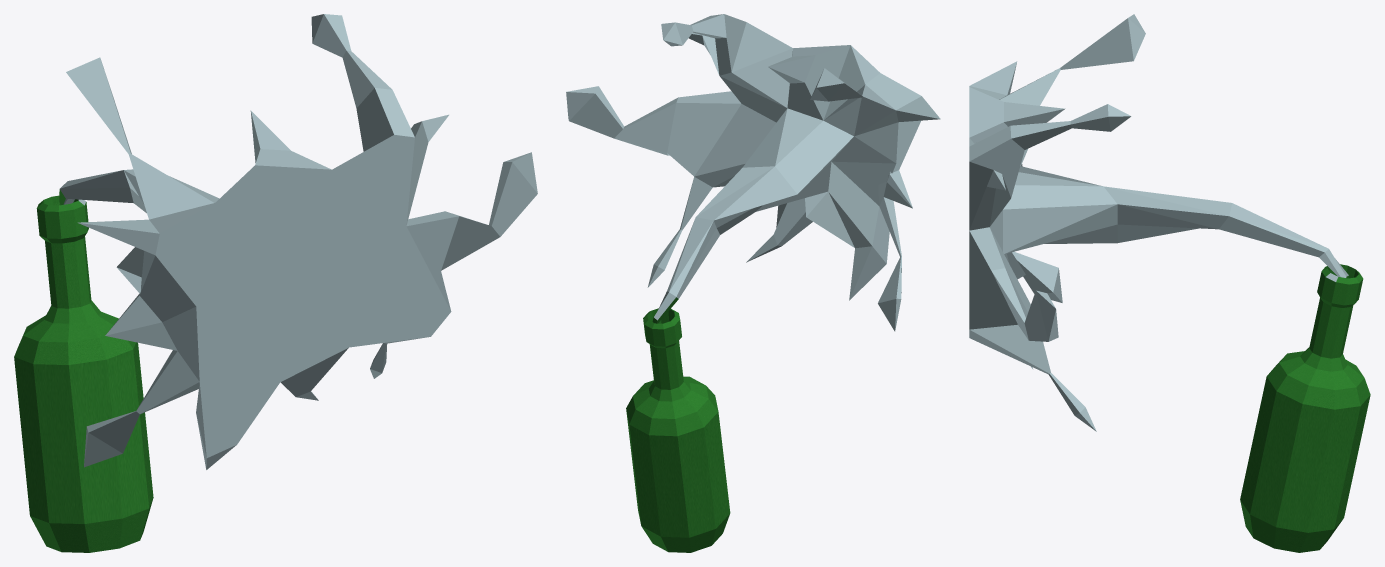
The model's file is ice_symbol_soju.FBX.
3 views of the same model, side by side, from view 1: azimuth 30°, elevation 25°; view 2: azimuth 150°, elevation 25°; view 3: azimuth 270°, elevation 25° (orthographic). The views are drawn at different scales.
Parts seen in each view (by area): view 1: statue_4; view 2: statue_4; view 3: statue_4.
Part boxes in pixels (x1=…): statue_4: x1=14, y1=14, x2=537, y2=552; statue_4: x1=566, y1=14, x2=940, y2=552; statue_4: x1=969, y1=14, x2=1370, y2=552.
Size of the model in its own units: 257 by 298 by 223.
